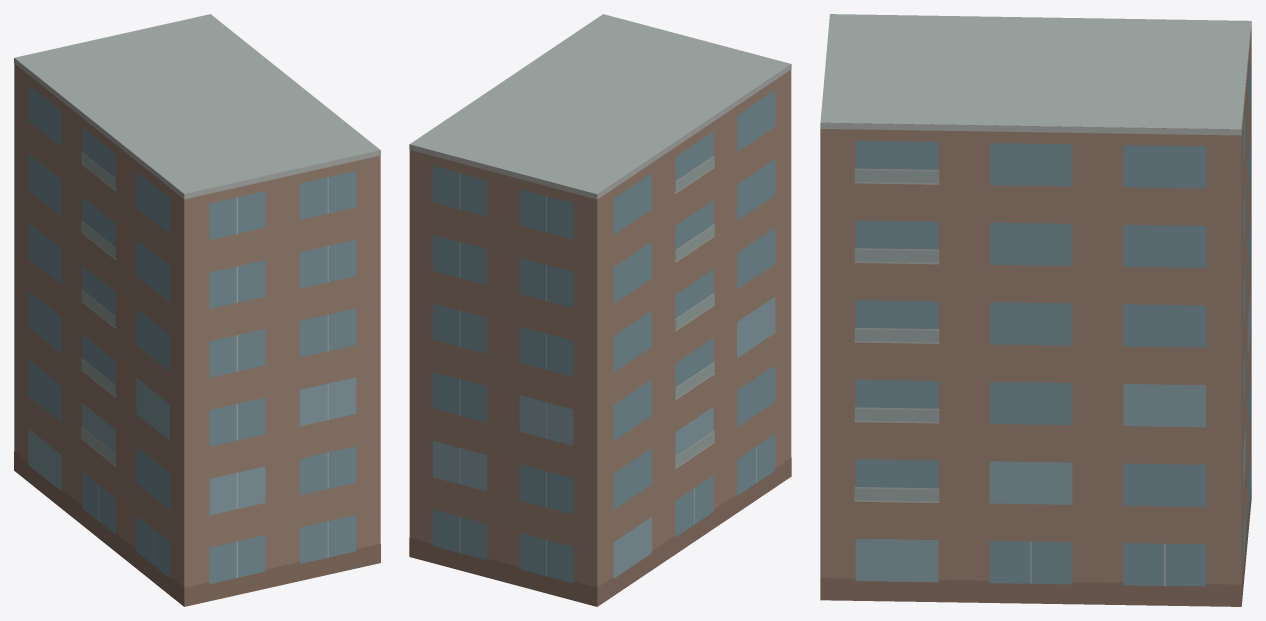
Rendered from survey-upis-32877334.glb.
3 views of the same model, side by side, from view 1: azimuth 30°, elevation 25°; view 2: azimuth 150°, elevation 25°; view 3: azimuth 270°, elevation 25° (orthographic). The views are drawn at different scales.
Parts seen in each view (by area): view 1: survey-upis-32877334.tmp; view 2: survey-upis-32877334.tmp; view 3: survey-upis-32877334.tmp.
Part boxes in pixels (left/top/right/bottom): survey-upis-32877334.tmp: left=14, top=14, right=380, bottom=606; survey-upis-32877334.tmp: left=409, top=14, right=791, bottom=606; survey-upis-32877334.tmp: left=820, top=14, right=1251, bottom=606.
Bounding box in the file's own units: 9.74 × 18.8 × 15.39.
